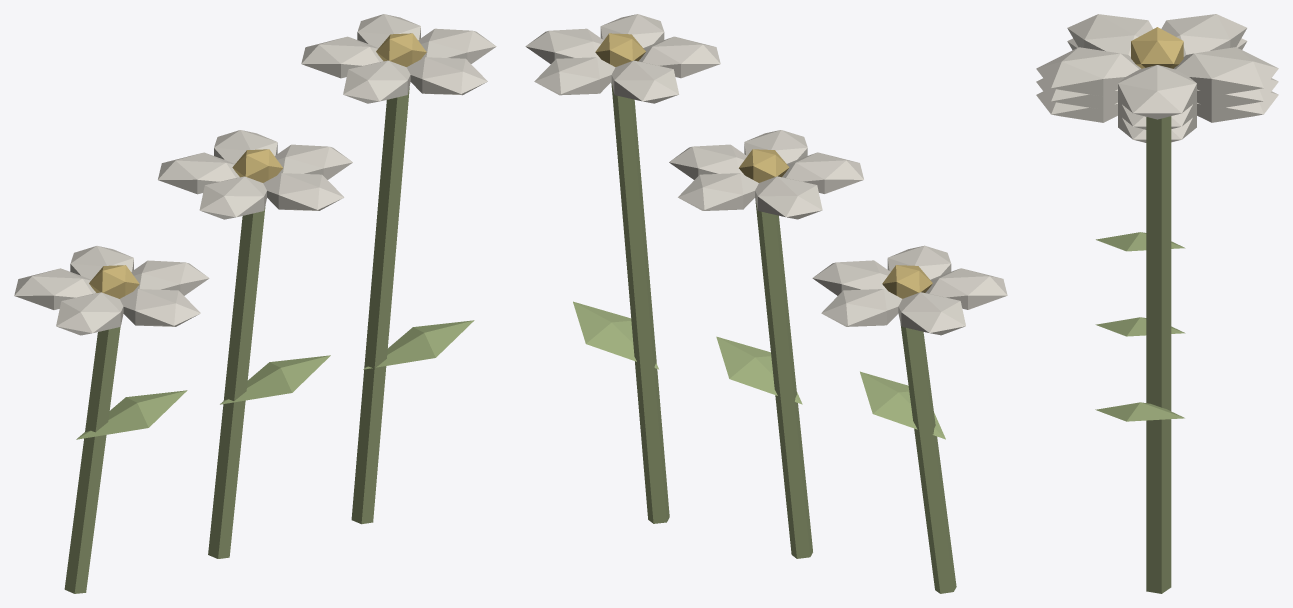
3 renders of one model, left to right at view 1: azimuth 30°, elevation 25°; view 2: azimuth 150°, elevation 25°; view 3: azimuth 270°, elevation 25°, orthographic. The views are drawn at different scales.
Visible parts, largest first — view 1: V07; view 2: V07; view 3: V07.
Part boxes in pixels (bbox=[...]): V07: bbox=[14, 14, 496, 593]; V07: bbox=[525, 14, 1007, 593]; V07: bbox=[1036, 14, 1278, 593].
Size of the model in its own units: 0.4092 by 0.4118 by 0.1568.
